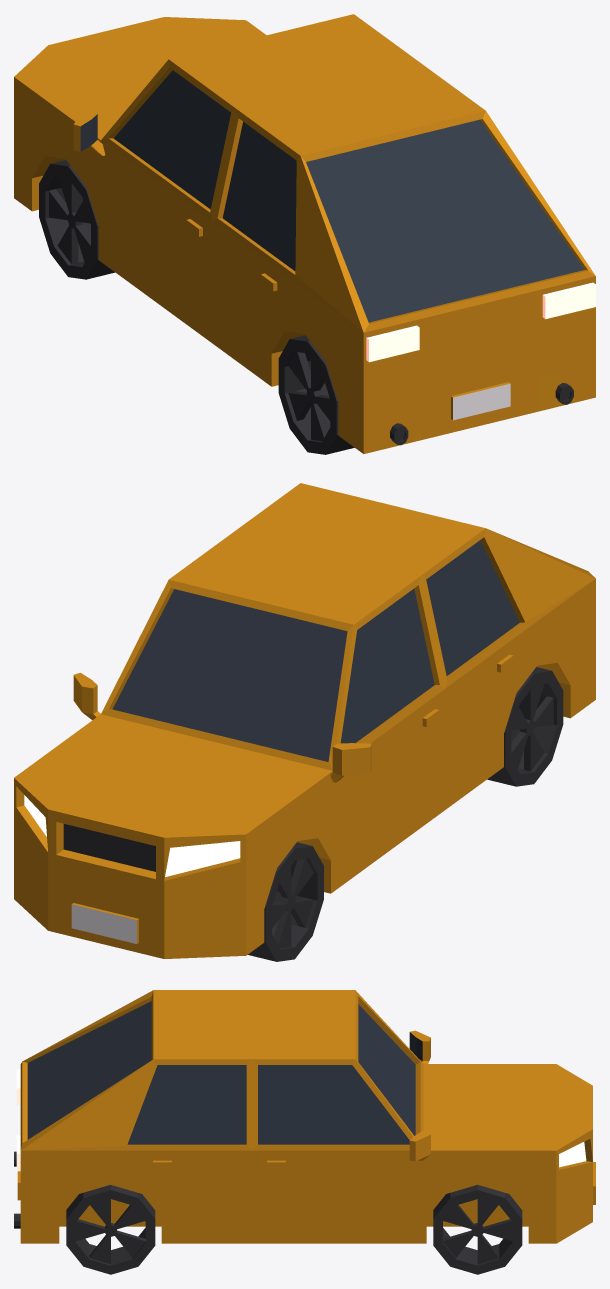
File: rv_compact.glb
3 renders of one model, top to bottom at view 1: azimuth 30°, elevation 25°; view 2: azimuth 150°, elevation 25°; view 3: azimuth 270°, elevation 25°, orthographic. The views are drawn at different scales.
Parts seen in each view (by area): view 1: Body, WheelRL, WheelFL; view 2: Body, WheelFL, WheelRL; view 3: Body, WheelFR, WheelRR.
Boxes of the visible parts, x1=… form: Body: x1=14, y1=14, x2=595, y2=453; WheelRL: x1=278, y1=335, x2=354, y2=454; WheelFL: x1=39, y1=160, x2=114, y2=279; Body: x1=14, y1=483, x2=595, y2=958; WheelFL: x1=248, y1=842, x2=323, y2=961; WheelRL: x1=487, y1=667, x2=563, y2=786; Body: x1=14, y1=990, x2=595, y2=1243; WheelFR: x1=433, y1=1184, x2=522, y2=1274; WheelRR: x1=66, y1=1184, x2=155, y2=1274.
Bounding box in the file's own units: 1.76 × 1.54 × 3.9.
